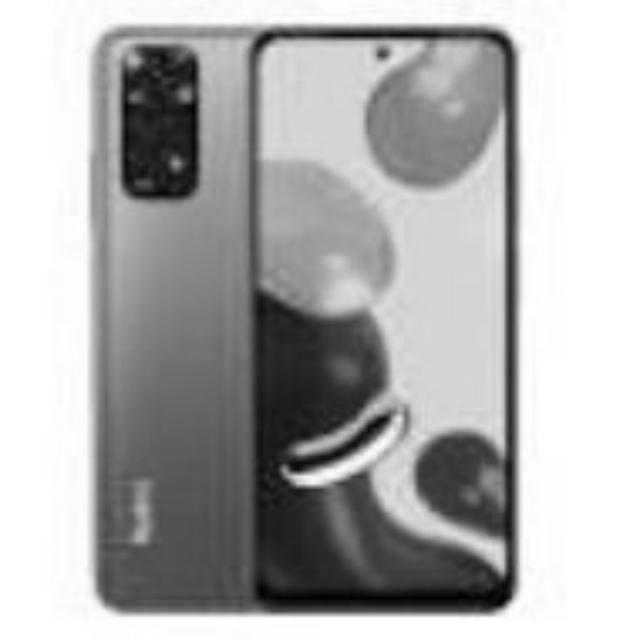fake: (245, 14, 525, 620)
